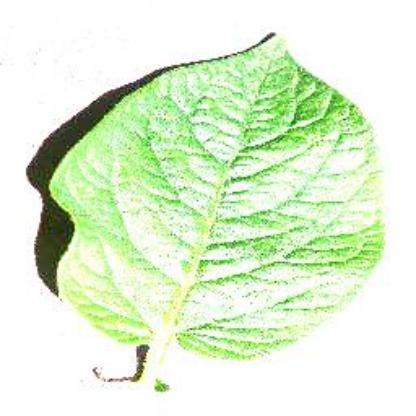Healthy-plant: (44, 29, 390, 403)
